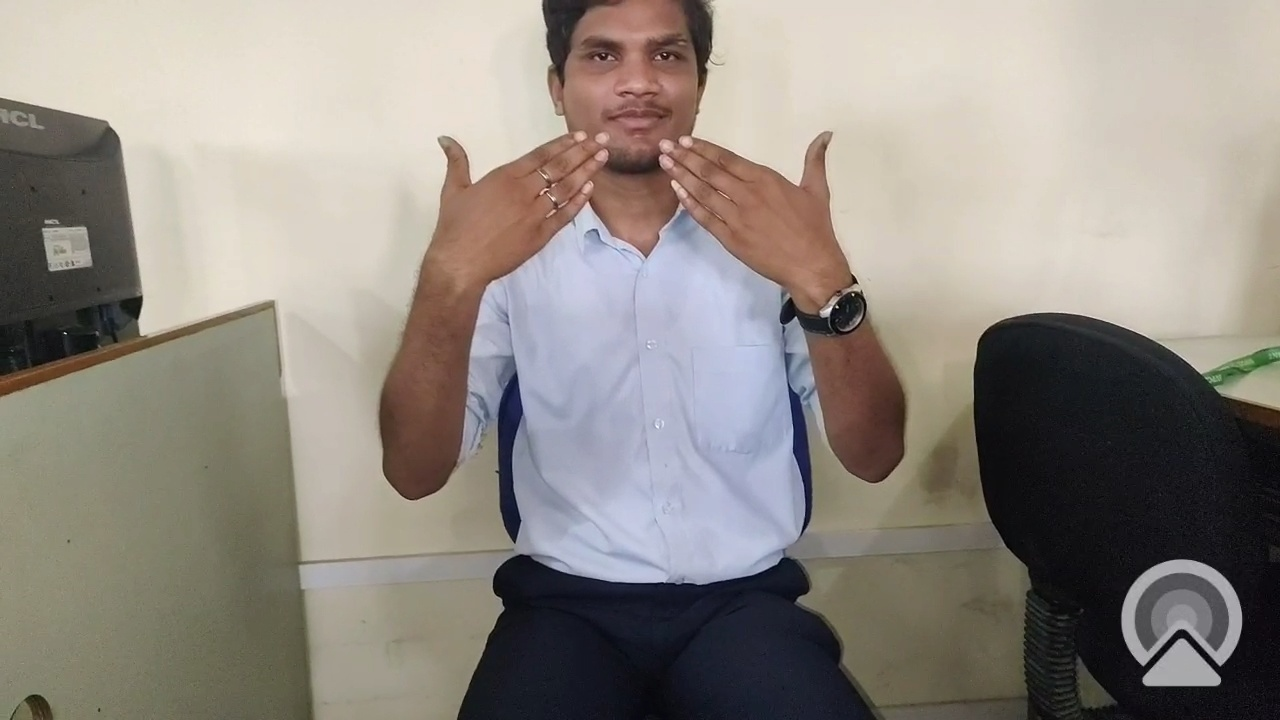Thank you: (388, 109, 896, 449)
